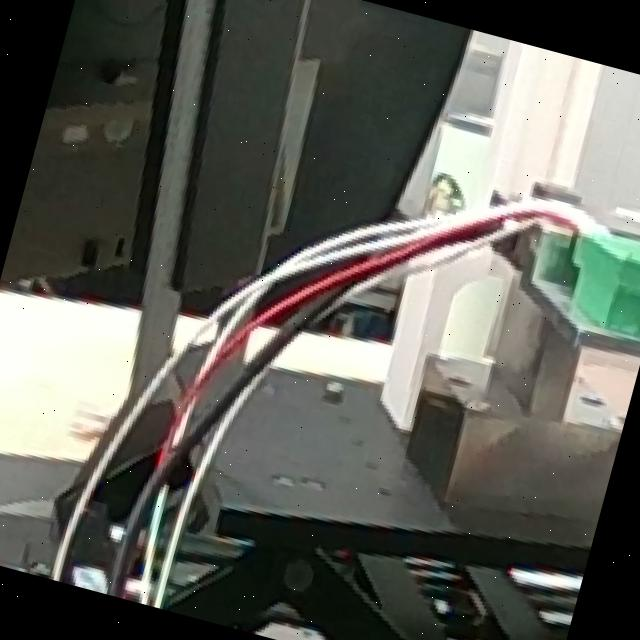Connector-Target: (585, 243, 640, 346)
